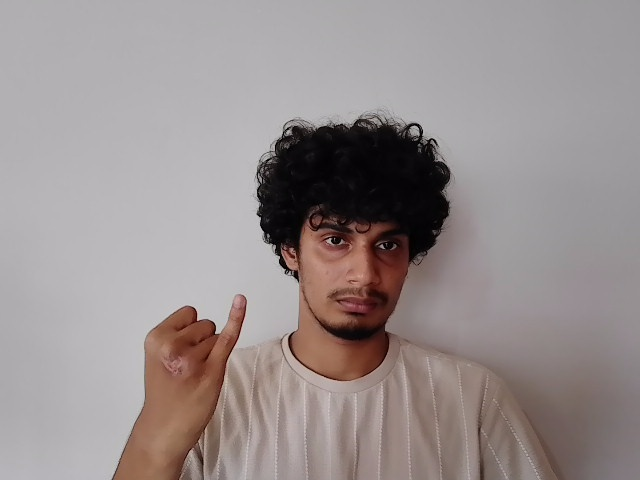bad: (142, 295, 246, 430)
